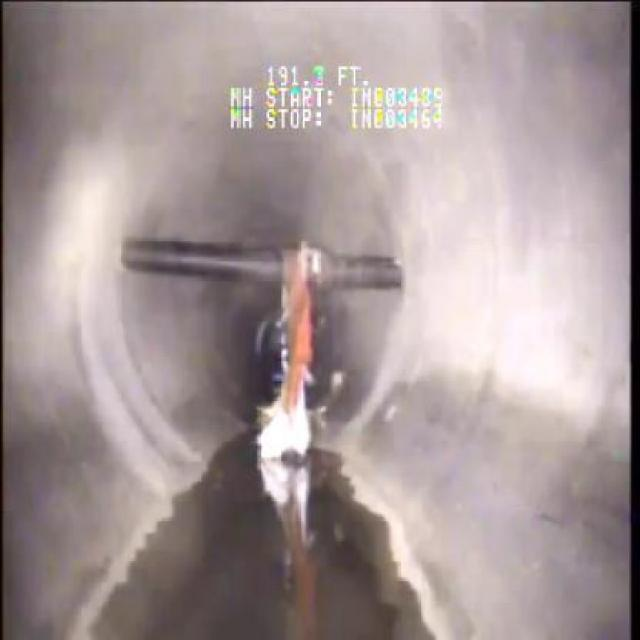Utility intrusion: (119, 231, 406, 292)
